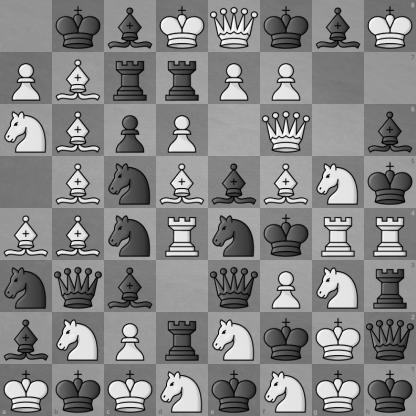B: (1, 209, 52, 260), (53, 53, 104, 104), (53, 105, 104, 156), (53, 157, 104, 208), (53, 209, 104, 260), (157, 157, 208, 208), (261, 157, 312, 208)
K: (0, 364, 52, 416), (104, 364, 156, 416), (312, 364, 364, 416), (364, 0, 416, 52), (157, 1, 208, 52), (313, 313, 364, 364)
N: (156, 364, 209, 416), (260, 364, 312, 416), (1, 105, 52, 156), (53, 313, 104, 364), (209, 313, 260, 364), (313, 157, 364, 208), (313, 261, 364, 312)
P: (1, 53, 52, 104), (105, 313, 156, 364), (157, 105, 208, 156), (209, 53, 260, 104), (261, 53, 312, 104), (261, 261, 312, 312)
Q: (209, 1, 260, 52), (261, 105, 312, 156)
R: (364, 209, 416, 260), (157, 209, 208, 260), (313, 209, 364, 260)
b: (364, 104, 416, 156), (1, 313, 52, 364), (105, 1, 156, 52), (105, 261, 156, 312), (209, 157, 260, 208), (313, 1, 364, 52)
board: (0, 0, 415, 415)
k: (364, 156, 416, 209), (52, 364, 104, 416), (364, 364, 416, 416), (209, 364, 260, 416), (53, 1, 104, 52), (261, 1, 312, 52), (261, 209, 312, 260), (261, 313, 312, 364)
n: (1, 261, 52, 312), (105, 157, 156, 208), (105, 209, 156, 260), (209, 209, 260, 260)
p: (105, 105, 156, 156)
q: (364, 312, 416, 364), (53, 261, 104, 312), (209, 261, 260, 312)
r: (364, 260, 416, 312), (105, 53, 156, 104), (157, 53, 208, 104), (157, 313, 208, 364)
